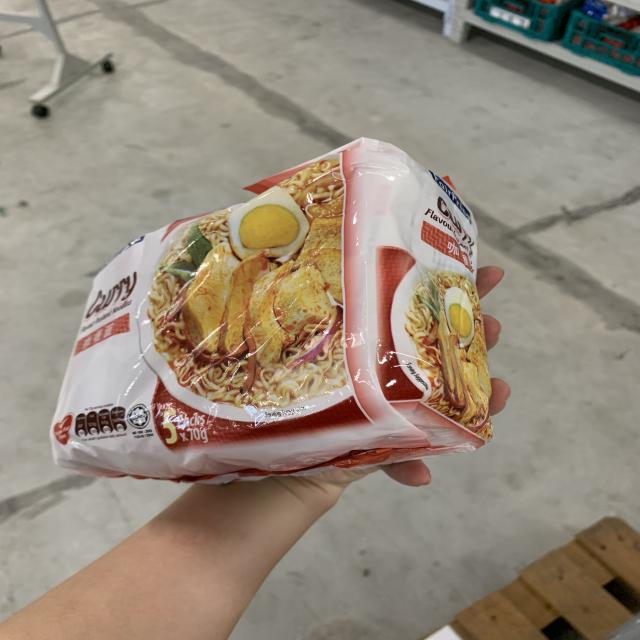object_name: (71, 217, 488, 453)
